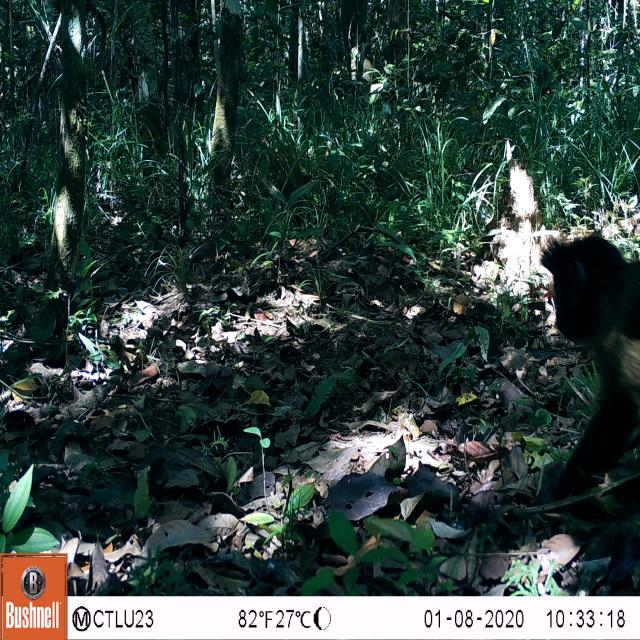Margarita Island Capuchin: (535, 222, 640, 537)
